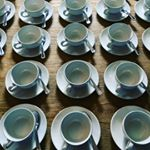cups: (2, 107, 39, 150), (58, 110, 93, 150), (63, 59, 95, 97), (8, 60, 42, 95), (120, 109, 149, 150), (115, 60, 147, 92), (104, 21, 134, 52), (12, 24, 45, 52), (60, 22, 91, 50), (19, 1, 46, 21), (62, 1, 89, 18), (102, 1, 128, 17)
